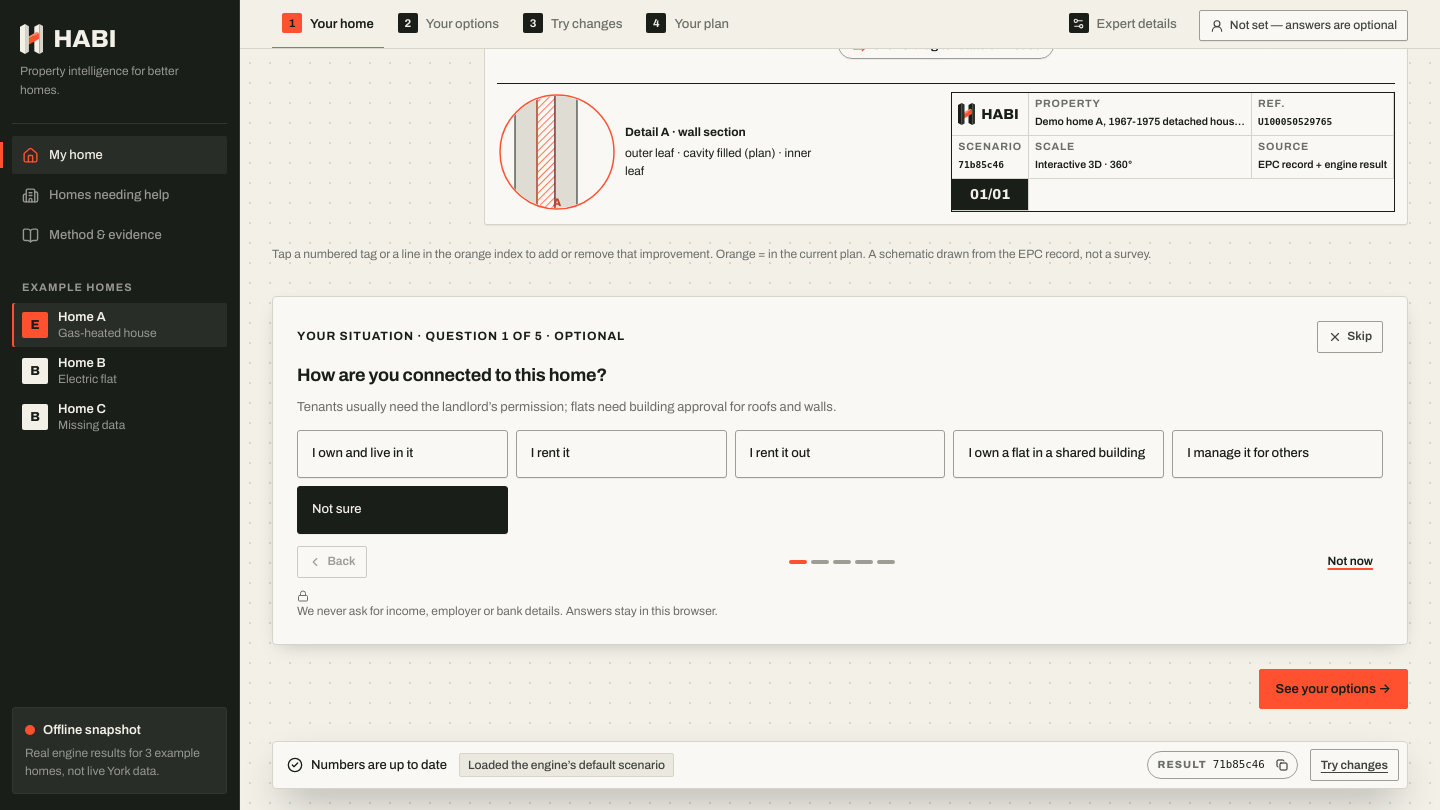
your situation (optional questions) › asks one question at a time, can be skipped, and is remembered
(page scrolled)
Expected: the element named "Steps" is shown, x1=272 y1=0 x2=1187 y2=48
Expected: the heading "How are you connected to this home?" is shown, x1=297 y1=365 x2=607 y2=385
Click the button "I rent it" at (621, 454), box x1=516 y1=430 x2=727 y2=478
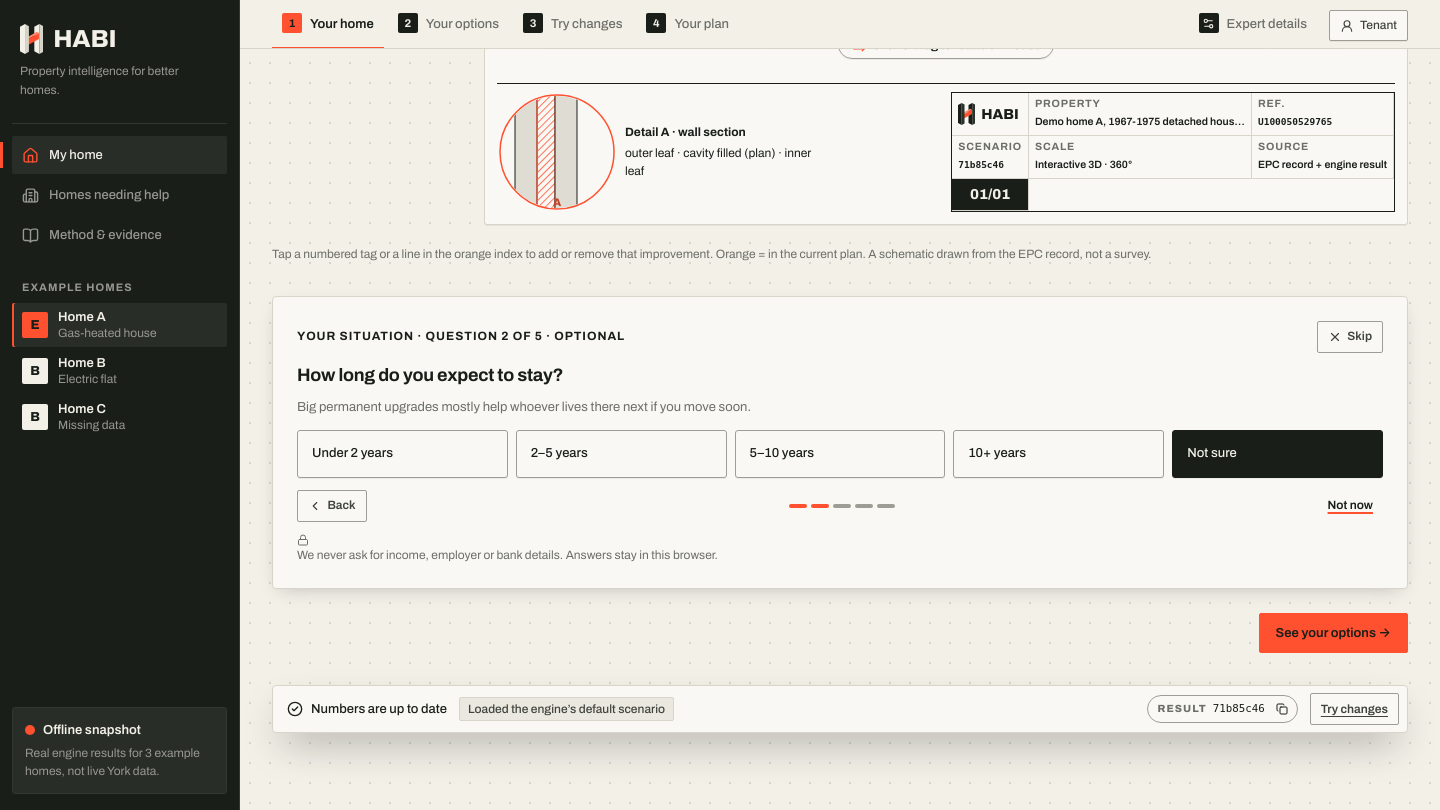
Expected: the heading "How long do you expect to stay?" is shown, x1=297 y1=365 x2=563 y2=385
Click the button with aria-label "Skip these questions" at (1350, 337), box x1=1317 y1=321 x2=1383 y2=353
(page scrolled)
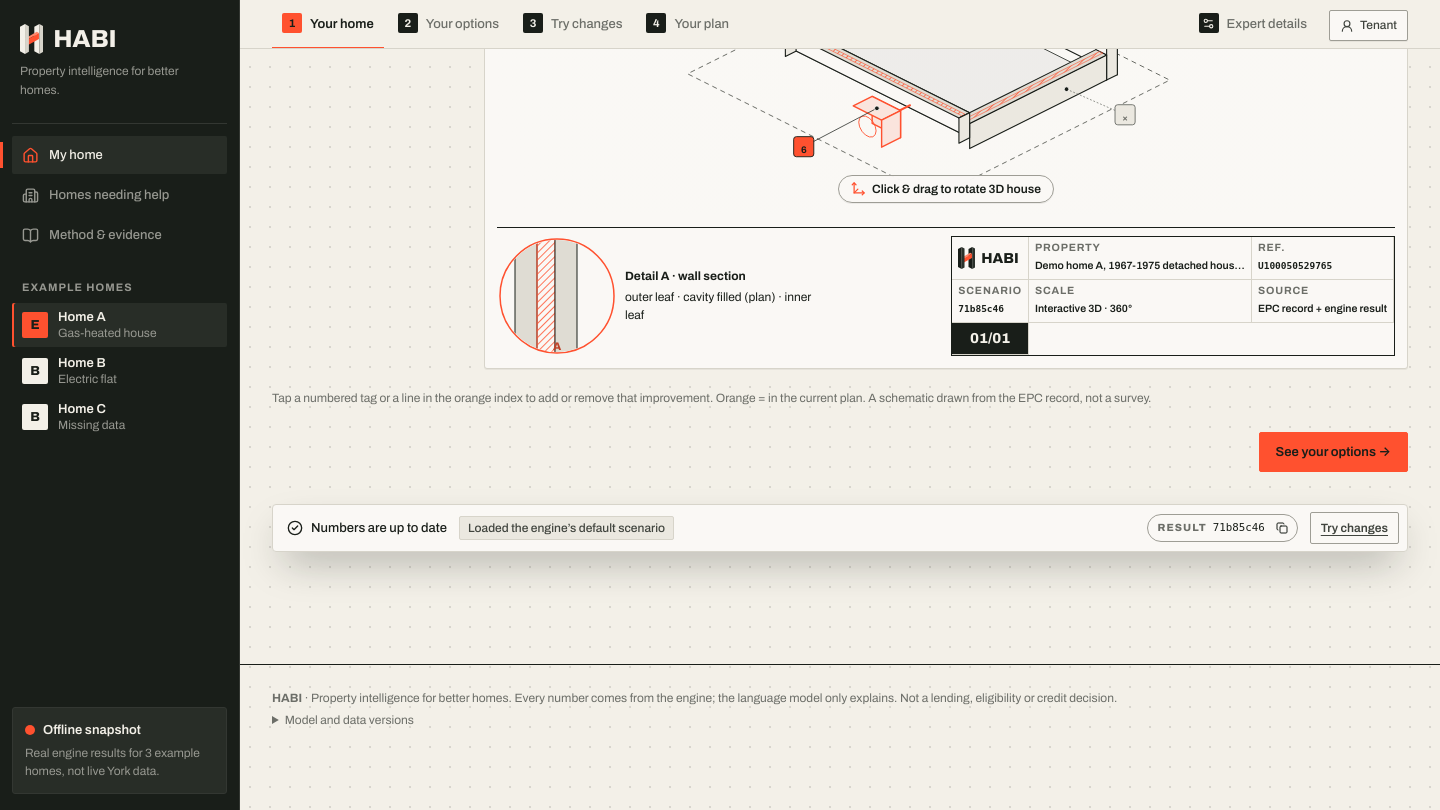
Expected: the button "Tenant" is shown, x1=1329 y1=11 x2=1408 y2=41
Expected: the heading "How long do you expect" is gone
